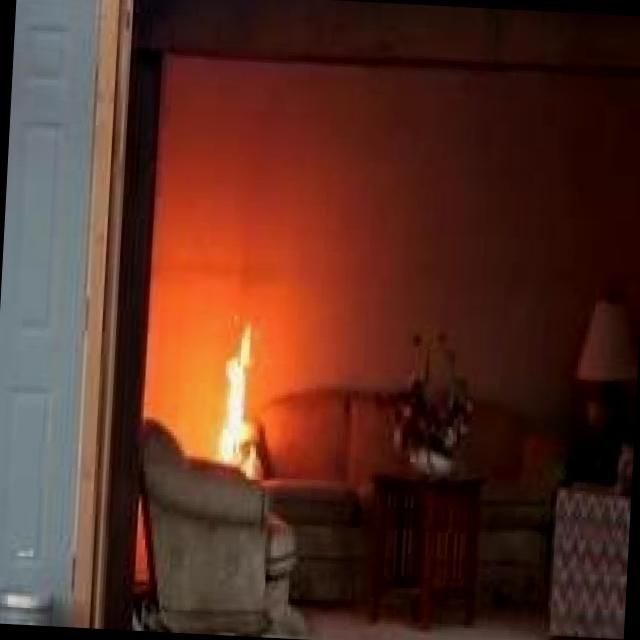fire: (184, 319, 274, 452)
